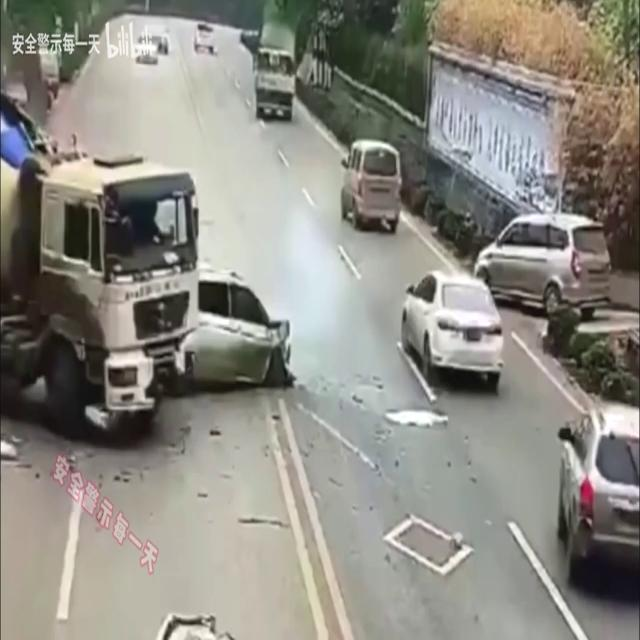accident: (0, 88, 294, 462)
non-accident: (399, 213, 616, 394), (134, 33, 170, 67)
